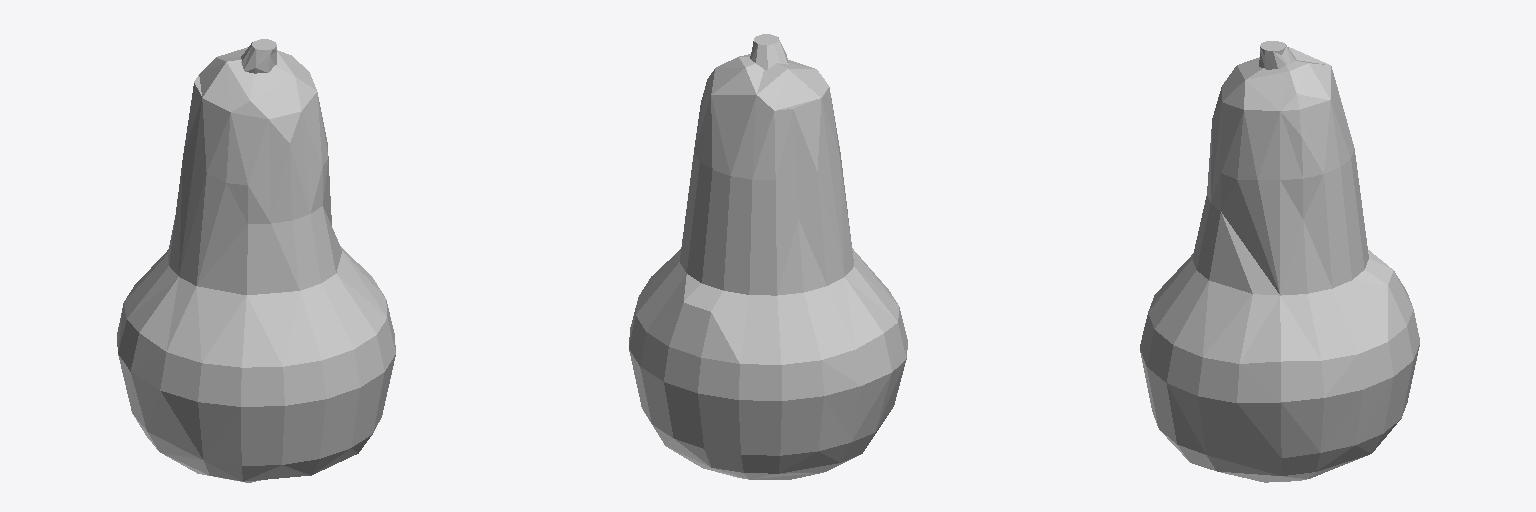
The model's file is squash.obj.
The picture shows the model from 3 angles: view 1: azimuth 30°, elevation 25°; view 2: azimuth 150°, elevation 25°; view 3: azimuth 270°, elevation 25°; orthographic projection.
Visible parts, largest first — view 1: Squahs_geo Squash1; view 2: Squahs_geo Squash1; view 3: Squahs_geo Squash1.
Part boxes in pixels (bbox=[...]): Squahs_geo Squash1: bbox=[117, 39, 395, 482]; Squahs_geo Squash1: bbox=[629, 34, 907, 479]; Squahs_geo Squash1: bbox=[1140, 41, 1419, 482].
Bounding box in the file's own units: 0.5497 × 0.894 × 0.5357.